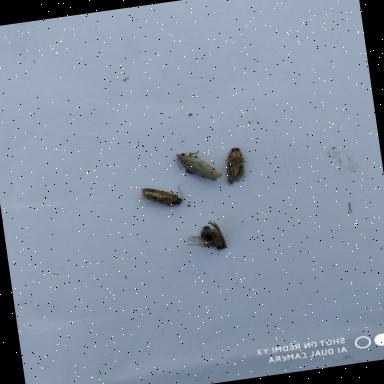pbw: (172, 144, 226, 188), (178, 216, 228, 256), (136, 180, 188, 214), (218, 143, 250, 187)
